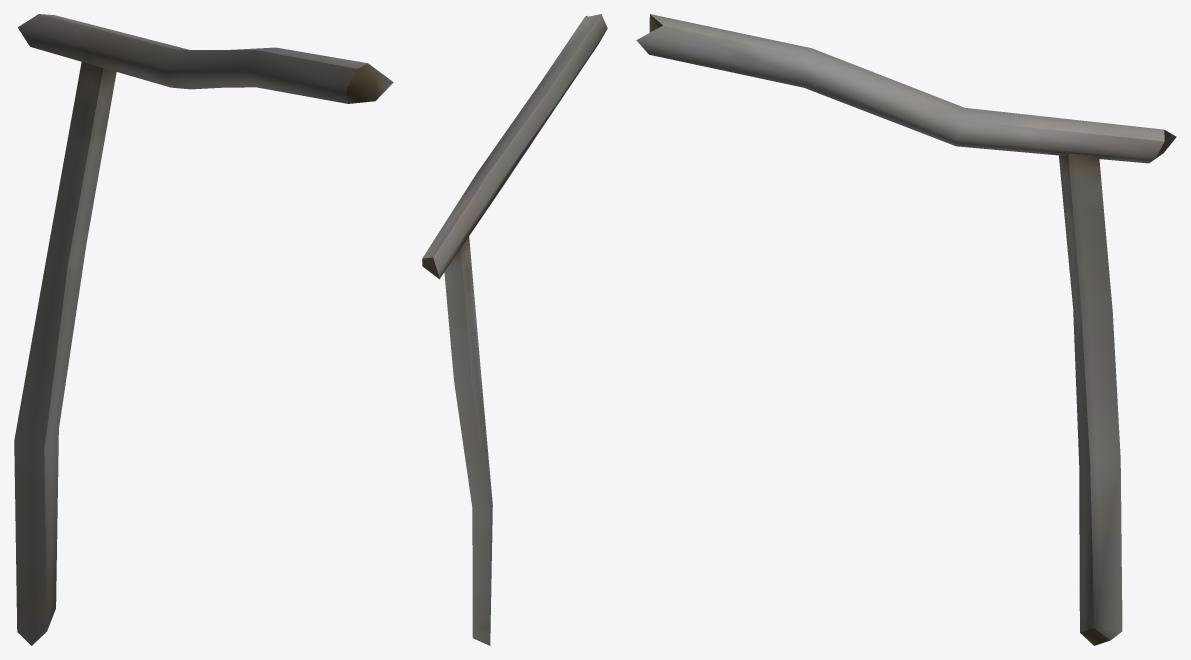
File: staircase_spiral01_stair04_part01.glb
3 views of the same model, side by side, from view 1: azimuth 30°, elevation 25°; view 2: azimuth 150°, elevation 25°; view 3: azimuth 270°, elevation 25° (orthographic). The views are drawn at different scales.
Visible parts, largest first — view 1: staircase_spiral01_stair04_part01; view 2: staircase_spiral01_stair04_part01; view 3: staircase_spiral01_stair04_part01.
Boxes of the visible parts, <box> form: staircase_spiral01_stair04_part01: <box>14,14,393,645</box>; staircase_spiral01_stair04_part01: <box>422,14,607,645</box>; staircase_spiral01_stair04_part01: <box>636,14,1176,645</box>.
Bounding box in the file's own units: 0.1166 × 0.6956 × 0.5105.
1 material, 1 textured.
